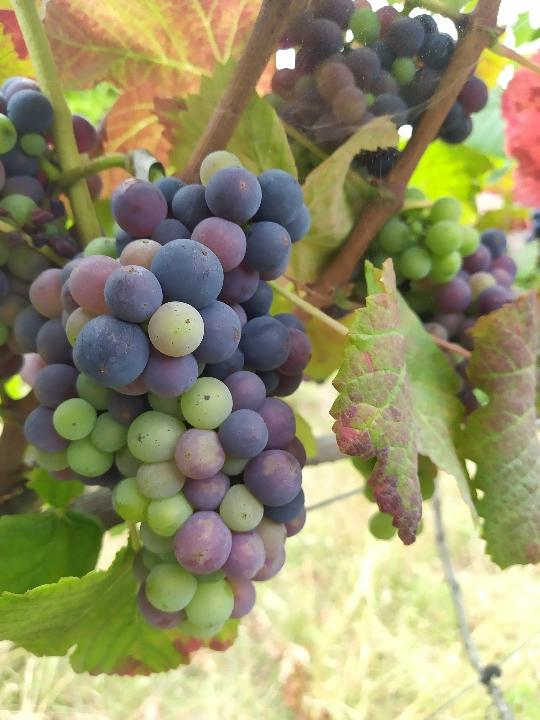grape: (17, 149, 315, 639)
